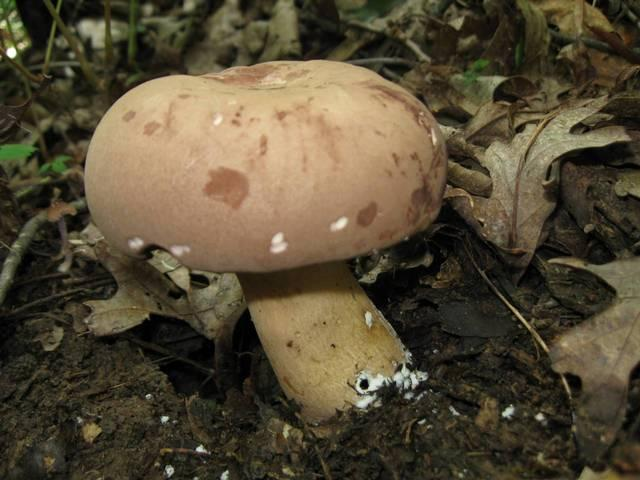poisonous_mushroom: (82, 57, 450, 425)
